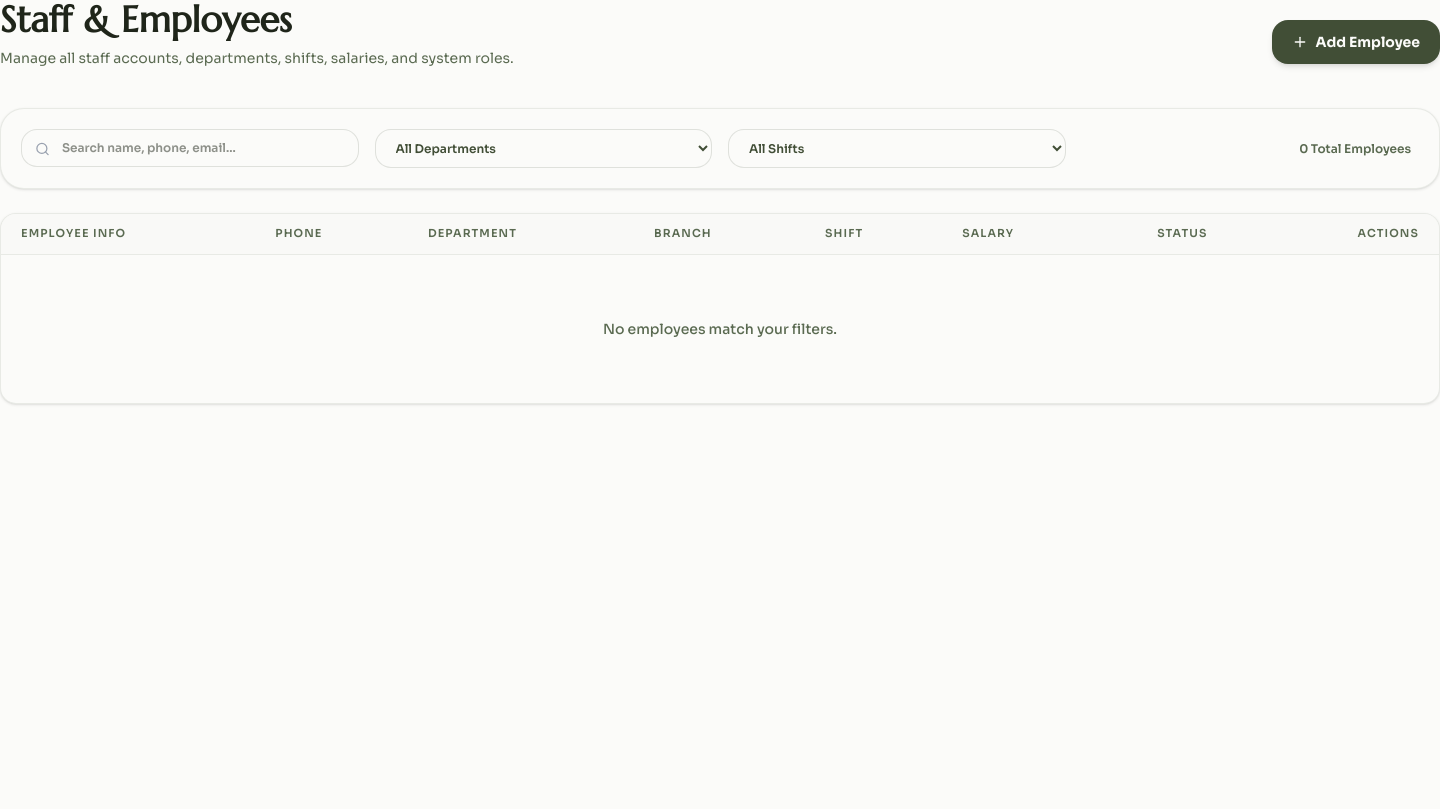
Test case: Add Employee — branch assignment › offers only ACTIVE branches as tick boxes
Click the button "Add Employee". click: point(1356, 42)
box: [1272,20,1439,64]
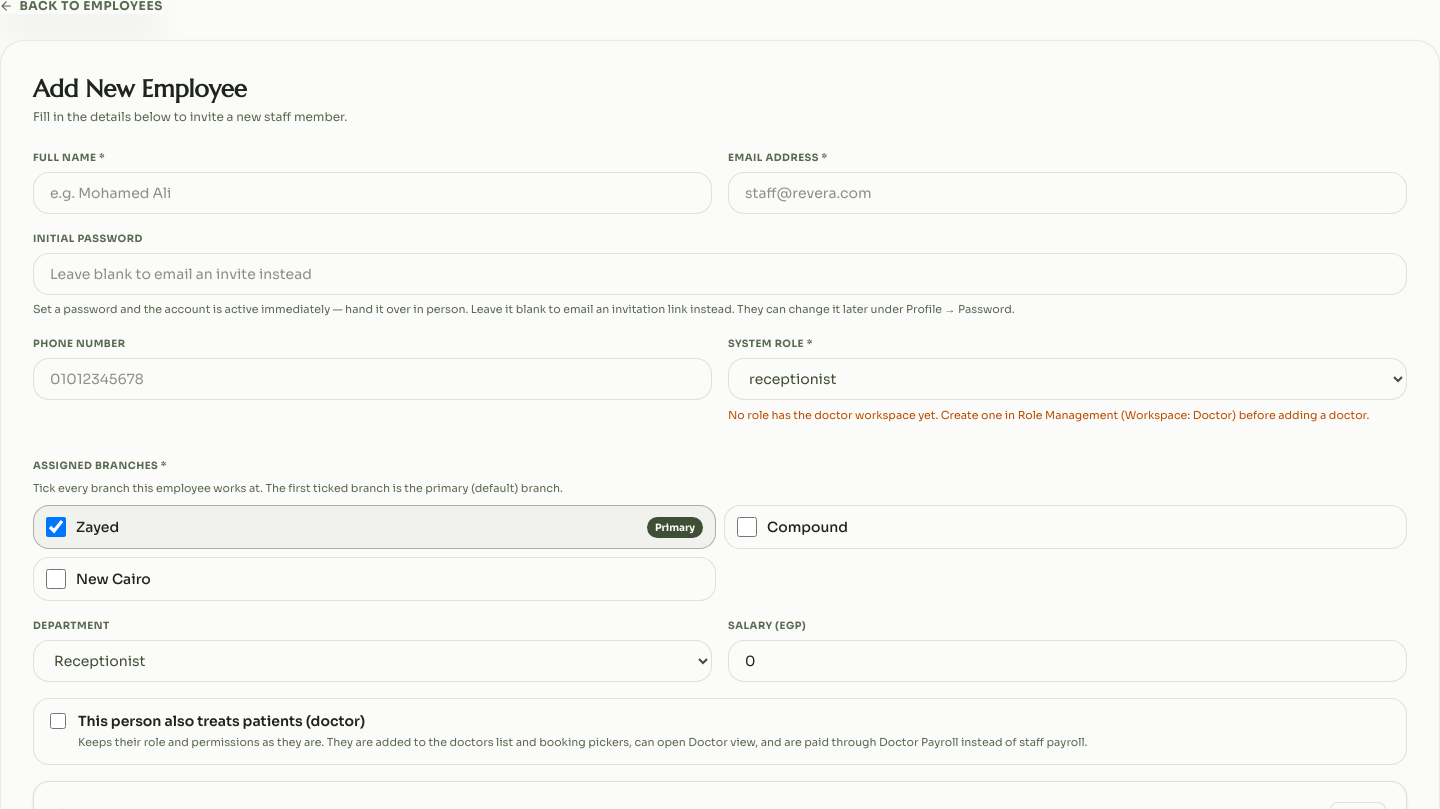
Expected: the checkbox labelled "Zayed Primary" is shown, [46,517,66,537]
Expected: the checkbox labelled "Compound" is shown, [737,517,757,537]
Expected: the checkbox labelled "New Cairo" is shown, [46,569,66,589]
